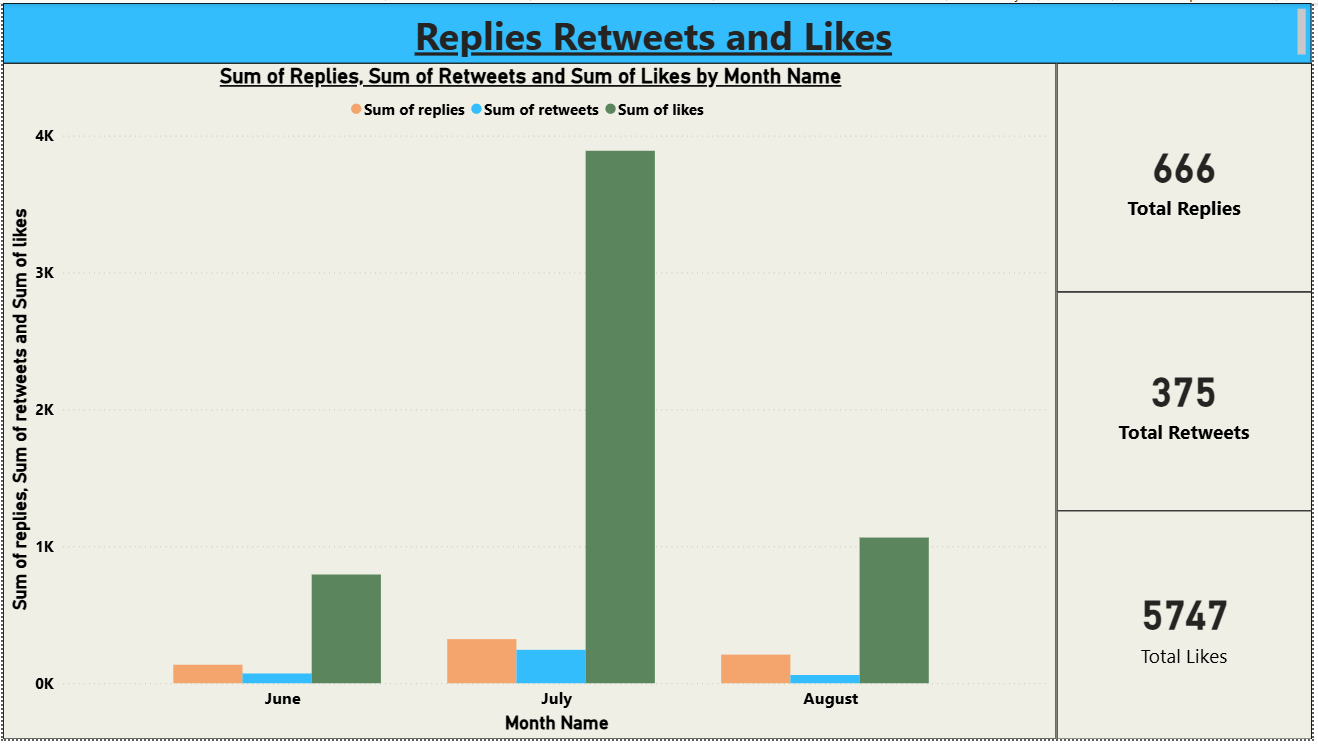

This screenshot's page, from the dashboard's own definition file:
{"tool":"powerbi","page":{"name":"Page 4","canvas":[1280,720],"ordinal":3},"visuals":[{"type":"textbox","box":[0,0,1280.3,59],"z":0},{"type":"clusteredColumnChart","title":"Sum of Replies, Sum of Retweets and Sum of Likes by Month Name","fields":{"Category":["Task4_data.Month Name"],"Y":["Sum(Task4_data.replies)","Sum(Task4_data.retweets)","Sum(Task4_data.likes)"]},"box":[0,59,1030.5,661.4],"z":1000},{"type":"card","fields":{"Values":["Sum(Task4_data.replies)"]},"box":[1030.5,59,249.7,223.7],"z":2000},{"type":"card","fields":{"Values":["Sum(Task4_data.retweets)"]},"box":[1030.5,282.7,249.7,214.1],"z":3000},{"type":"card","fields":{"Values":["Sum(Task4_data.likes)"]},"box":[1030.5,496.7,249.7,223.7],"z":4000}]}

Visuals, with their boxes in screenshot pixels (x1, y1, x2, y2), scaled from the page's 1280x720 canvas onto the 1318x745 screenshot:
textbox: BBox(0, 0, 1317, 61)
"Sum of Replies, Sum of Retweets and Sum of Likes by Month Name" clusteredColumnChart: BBox(0, 61, 1061, 744)
card - Sum(Task4_data.replies): BBox(1061, 61, 1317, 293)
card - Sum(Task4_data.retweets): BBox(1061, 293, 1317, 514)
card - Sum(Task4_data.likes): BBox(1061, 514, 1317, 744)
